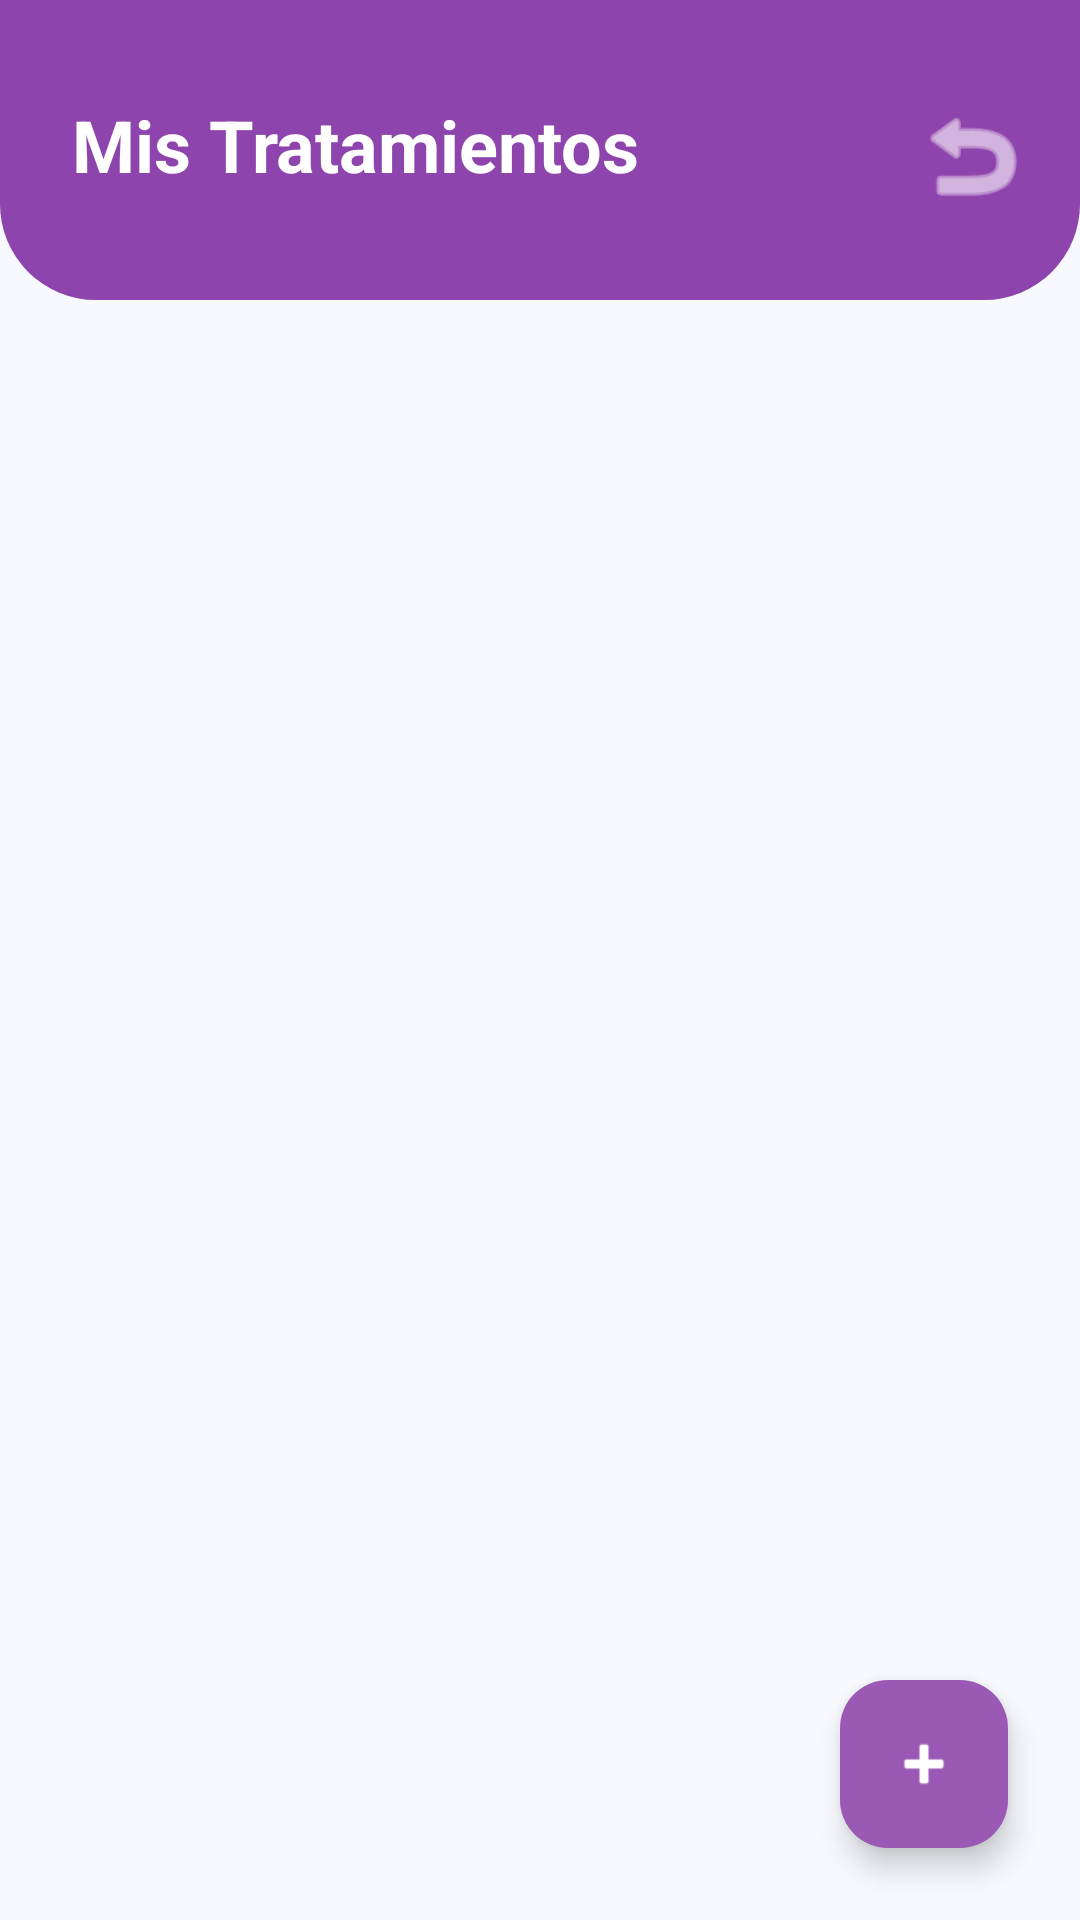

Where to tap for icons on this 1080px×1920px app screen, as (x,y):
add: (924,1764)
revert: (973,157)
